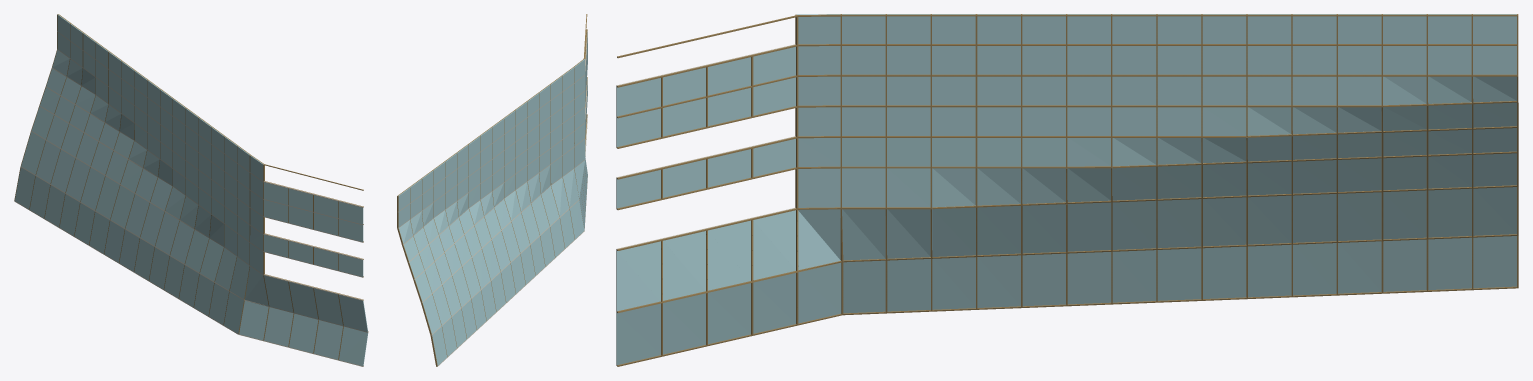
Rendered from G7_Completion_R005_Body_-1_07.glb.
The picture shows the model from 3 angles, left to right: view 1: azimuth 30°, elevation 25°; view 2: azimuth 150°, elevation 25°; view 3: azimuth 270°, elevation 25°; orthographic projection. The views are drawn at different scales.
Parts seen in each view (by area): view 1: Body_-1_07_G7C3_glass_solid_skin, Body_-1_07_G7C3_metal_solid_skin, Body_-1_07_G7C3_shell_solid_skin, Body_-1_07_G7C3_metal_solid_frame; view 2: Body_-1_07_G7C3_glass_solid_skin, Body_-1_07_G7C3_metal_solid_skin, Body_-1_07_G7C3_shell_solid_skin, Body_-1_07_G7C3_metal_solid_frame; view 3: Body_-1_07_G7C3_glass_solid_skin, Body_-1_07_G7C3_metal_solid_frame, Body_-1_07_G7C3_shell_solid_skin.
Part boxes in pixels (bbox=[...]): Body_-1_07_G7C3_glass_solid_skin: bbox=[15, 14, 368, 365]; Body_-1_07_G7C3_metal_solid_skin: bbox=[14, 14, 343, 359]; Body_-1_07_G7C3_shell_solid_skin: bbox=[14, 31, 368, 366]; Body_-1_07_G7C3_metal_solid_frame: bbox=[58, 14, 368, 366]; Body_-1_07_G7C3_glass_solid_skin: bbox=[398, 33, 587, 365]; Body_-1_07_G7C3_metal_solid_skin: bbox=[397, 67, 586, 366]; Body_-1_07_G7C3_shell_solid_skin: bbox=[397, 29, 587, 366]; Body_-1_07_G7C3_metal_solid_frame: bbox=[397, 14, 587, 366]; Body_-1_07_G7C3_glass_solid_skin: bbox=[616, 14, 1516, 364]; Body_-1_07_G7C3_metal_solid_frame: bbox=[617, 14, 1518, 366]; Body_-1_07_G7C3_shell_solid_skin: bbox=[616, 44, 1490, 365].
Size of the model in its own units: 26.47 by 45.5 by 120.
3 materials, 2 textured.
